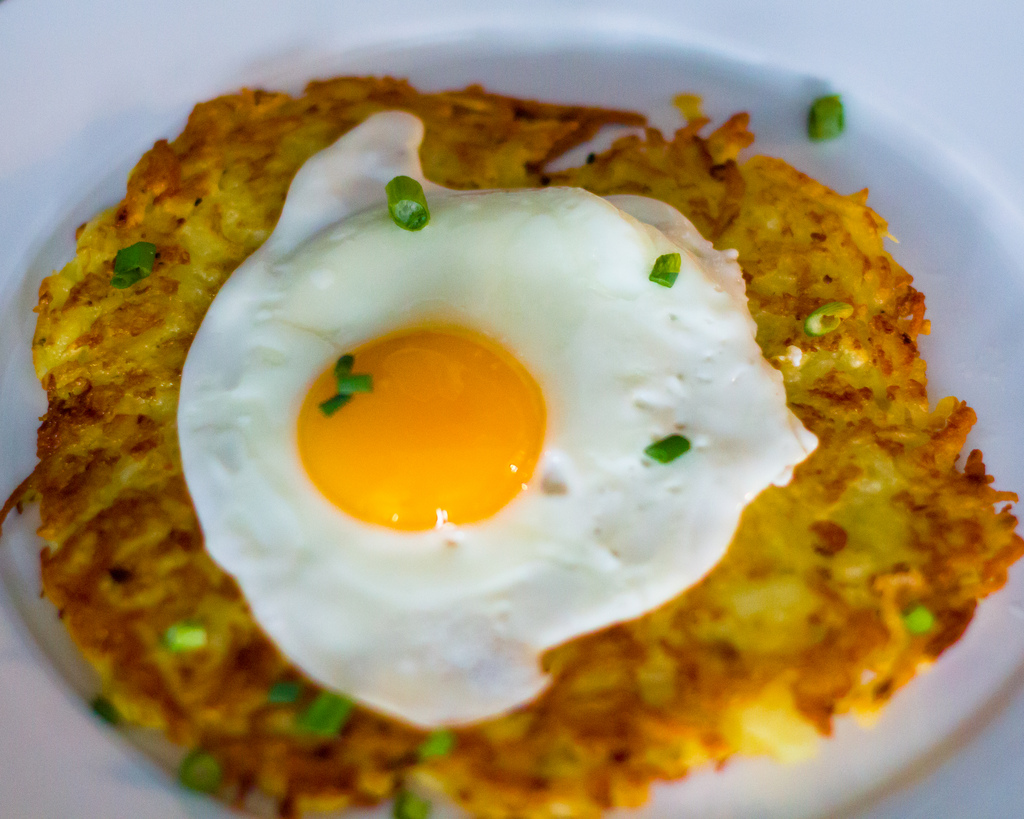fried egg: (203, 207, 710, 699)
